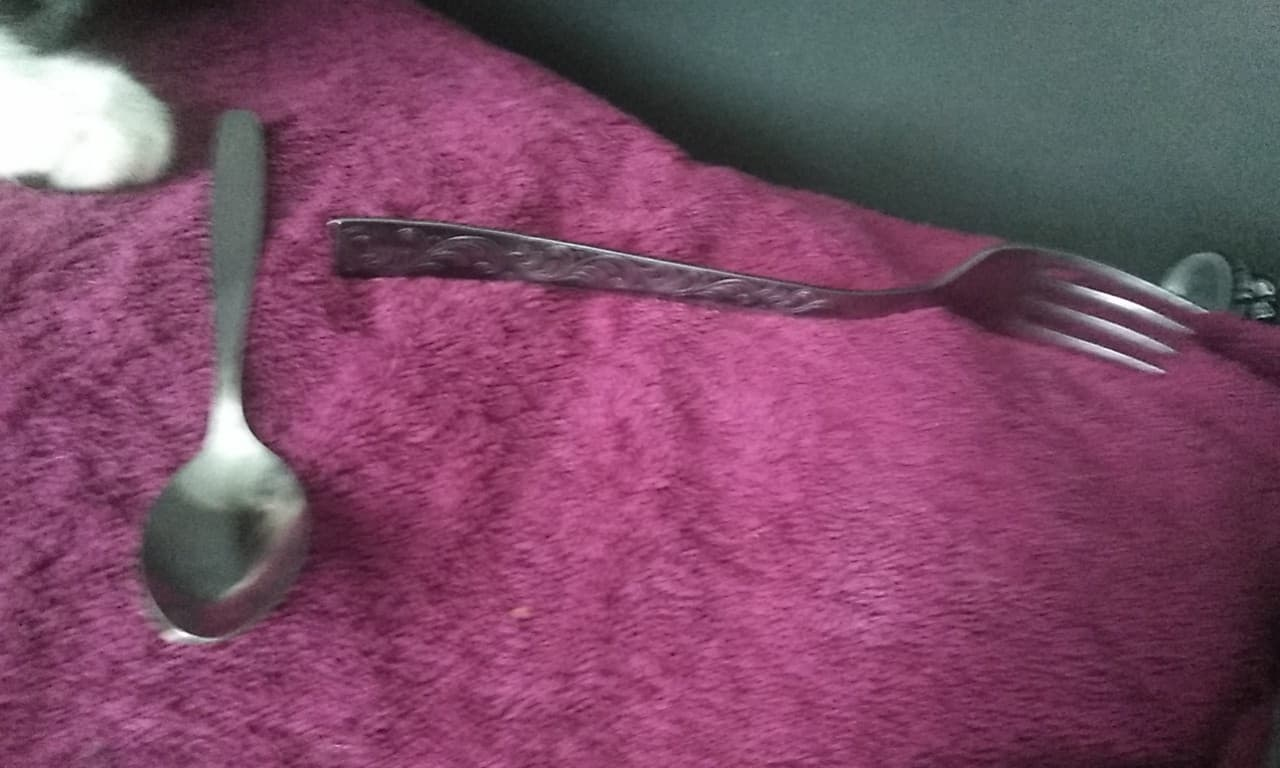Lyzka: (139, 446, 317, 644)
Widelec: (926, 239, 1207, 384)
